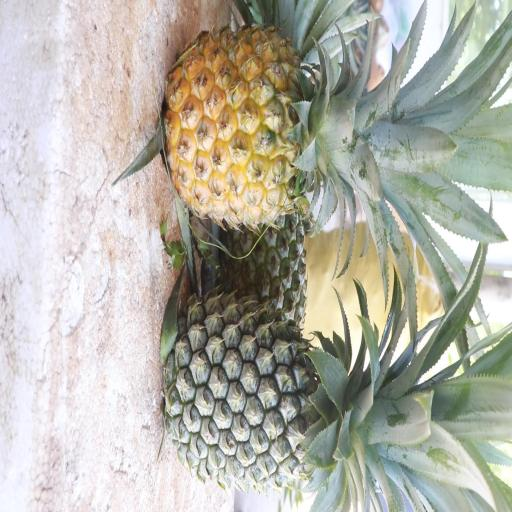Pineapple - v8 v1: (159, 20, 433, 240)
